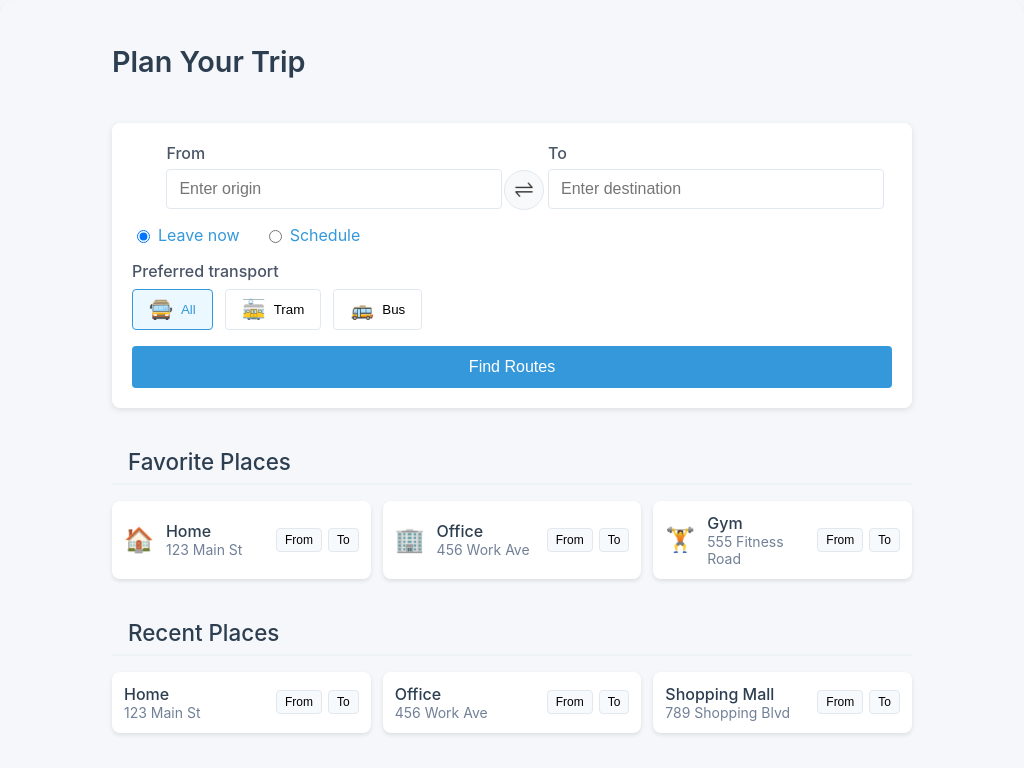
Test case: PlanTripPage 组件测试 › 交换出发地和目的地
Note: 输入出发地和目的地
In the field labelled "From": (334, 189) [166,169,502,209], type "Home"
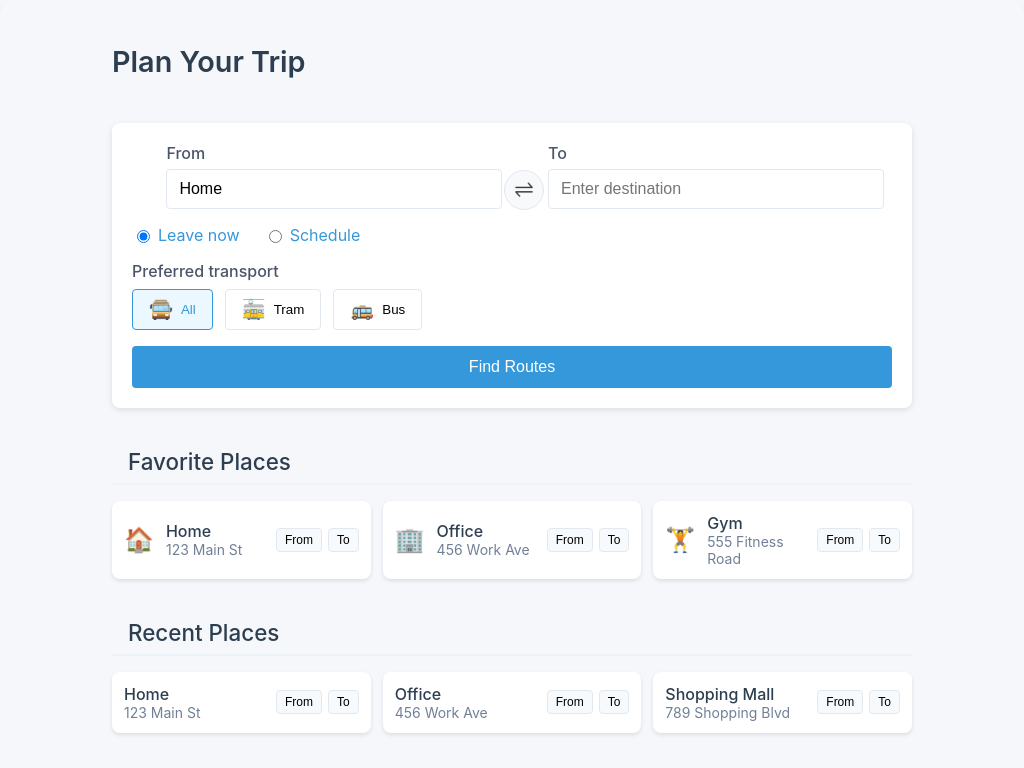
In the field labelled "To": (716, 189) [548,169,884,209], type "Office"
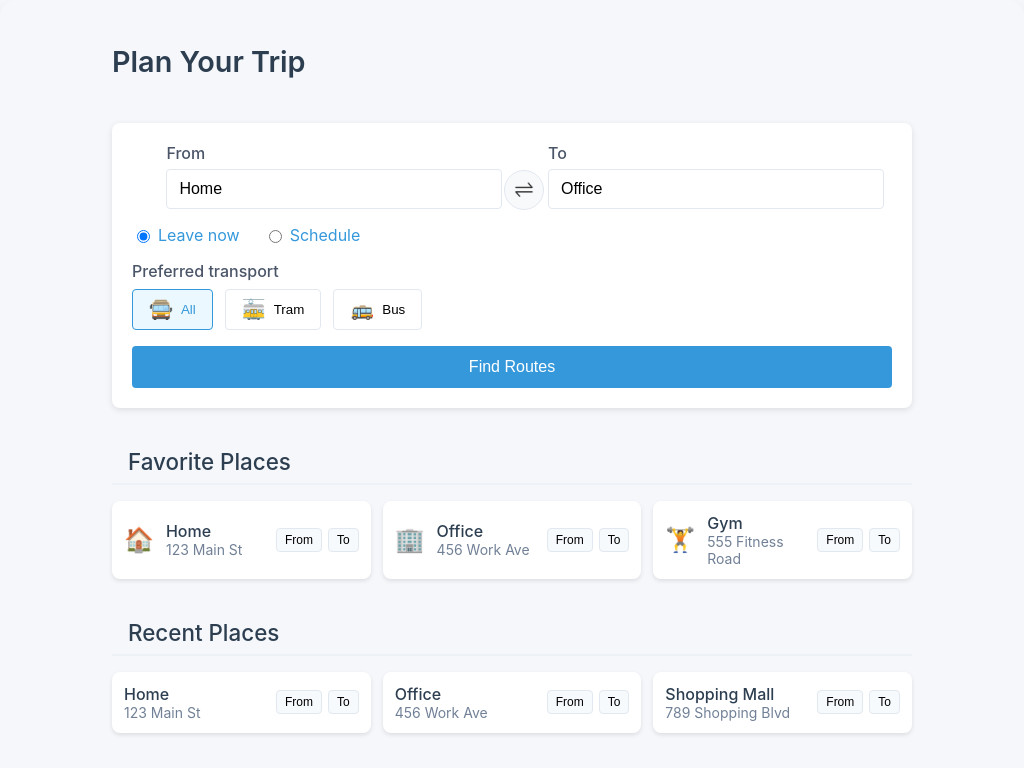
Click the button named "Swap locations": (524, 190) [504,170,544,210]
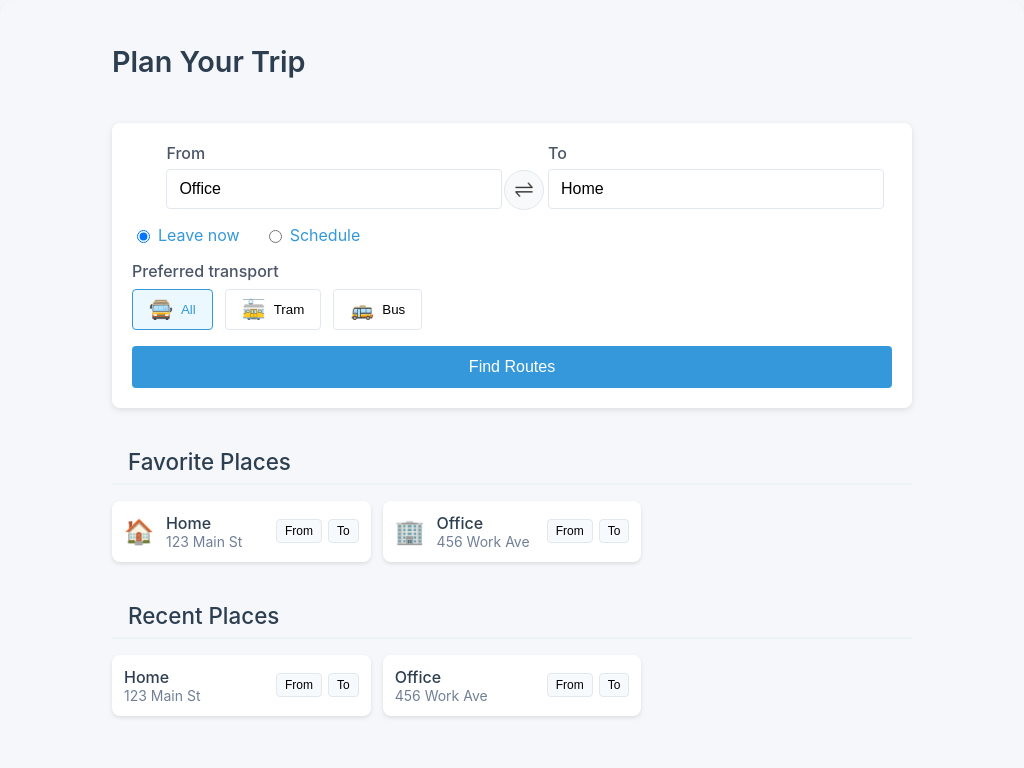
Result: the field labelled "From" holds "Office" at [166,169,502,209]
Result: the field labelled "To" holds "Home" at [548,169,884,209]
